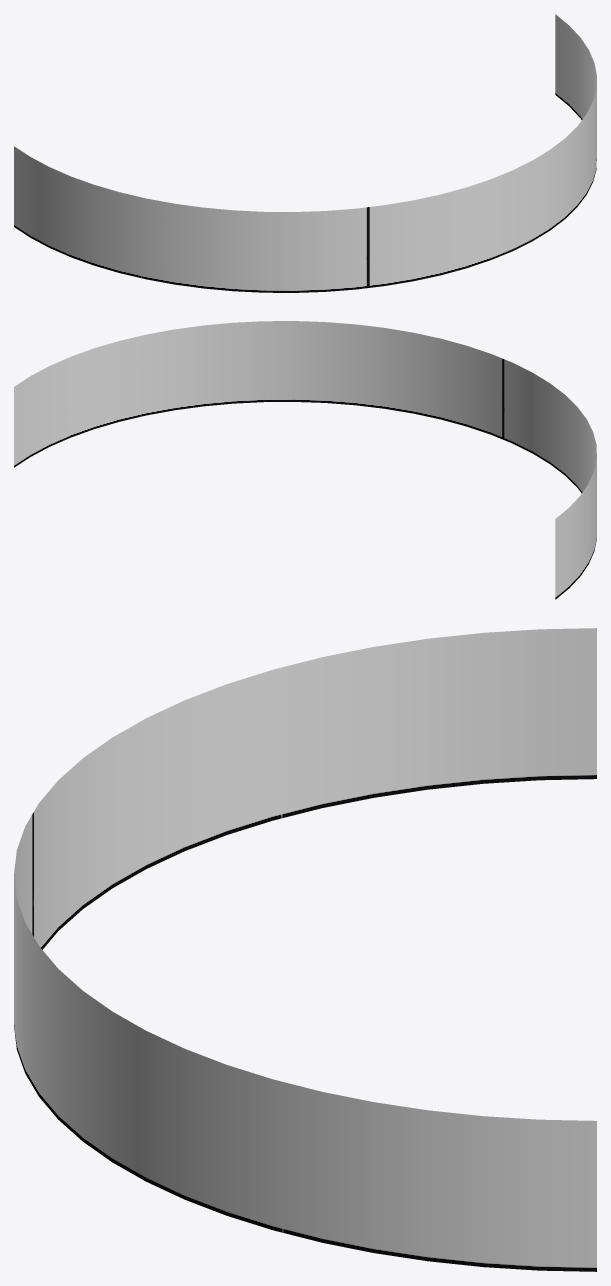
File: Wall350x50xRout175cm.FBX
3 views of the same model, one above another, from view 1: azimuth 30°, elevation 25°; view 2: azimuth 150°, elevation 25°; view 3: azimuth 270°, elevation 25° (orthographic). The views are drawn at different scales.
Visible parts, largest first — view 1: Wall350x50xRout175cm; view 2: Wall350x50xRout175cm; view 3: Wall350x50xRout175cm.
Part boxes in pixels (x1=…): Wall350x50xRout175cm: x1=14, y1=14, x2=596, y2=292; Wall350x50xRout175cm: x1=14, y1=321, x2=596, y2=599; Wall350x50xRout175cm: x1=14, y1=628, x2=596, y2=1271.
Bounding box in the file's own units: 350 × 50 × 175.
